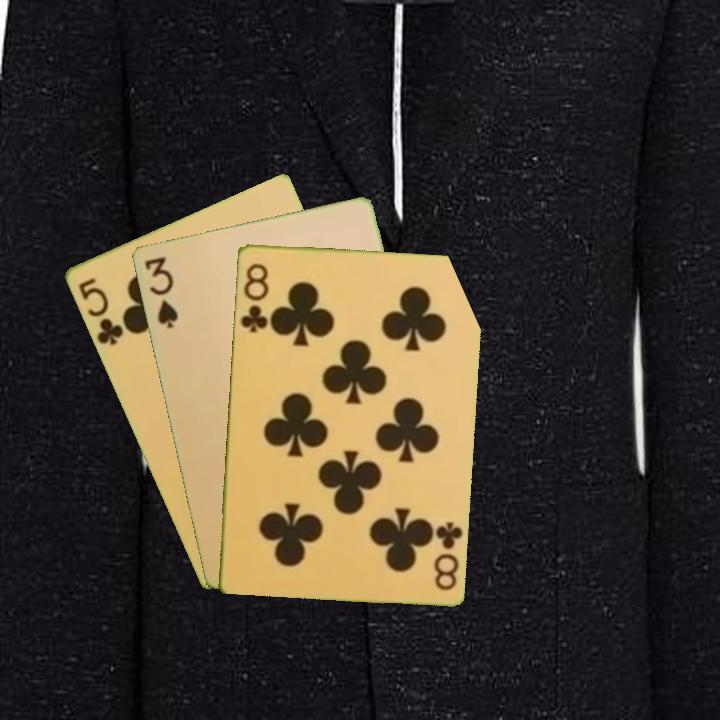3s: (140, 252, 181, 331)
5c: (74, 274, 126, 348)
8c: (236, 259, 271, 335), (430, 517, 465, 593)
